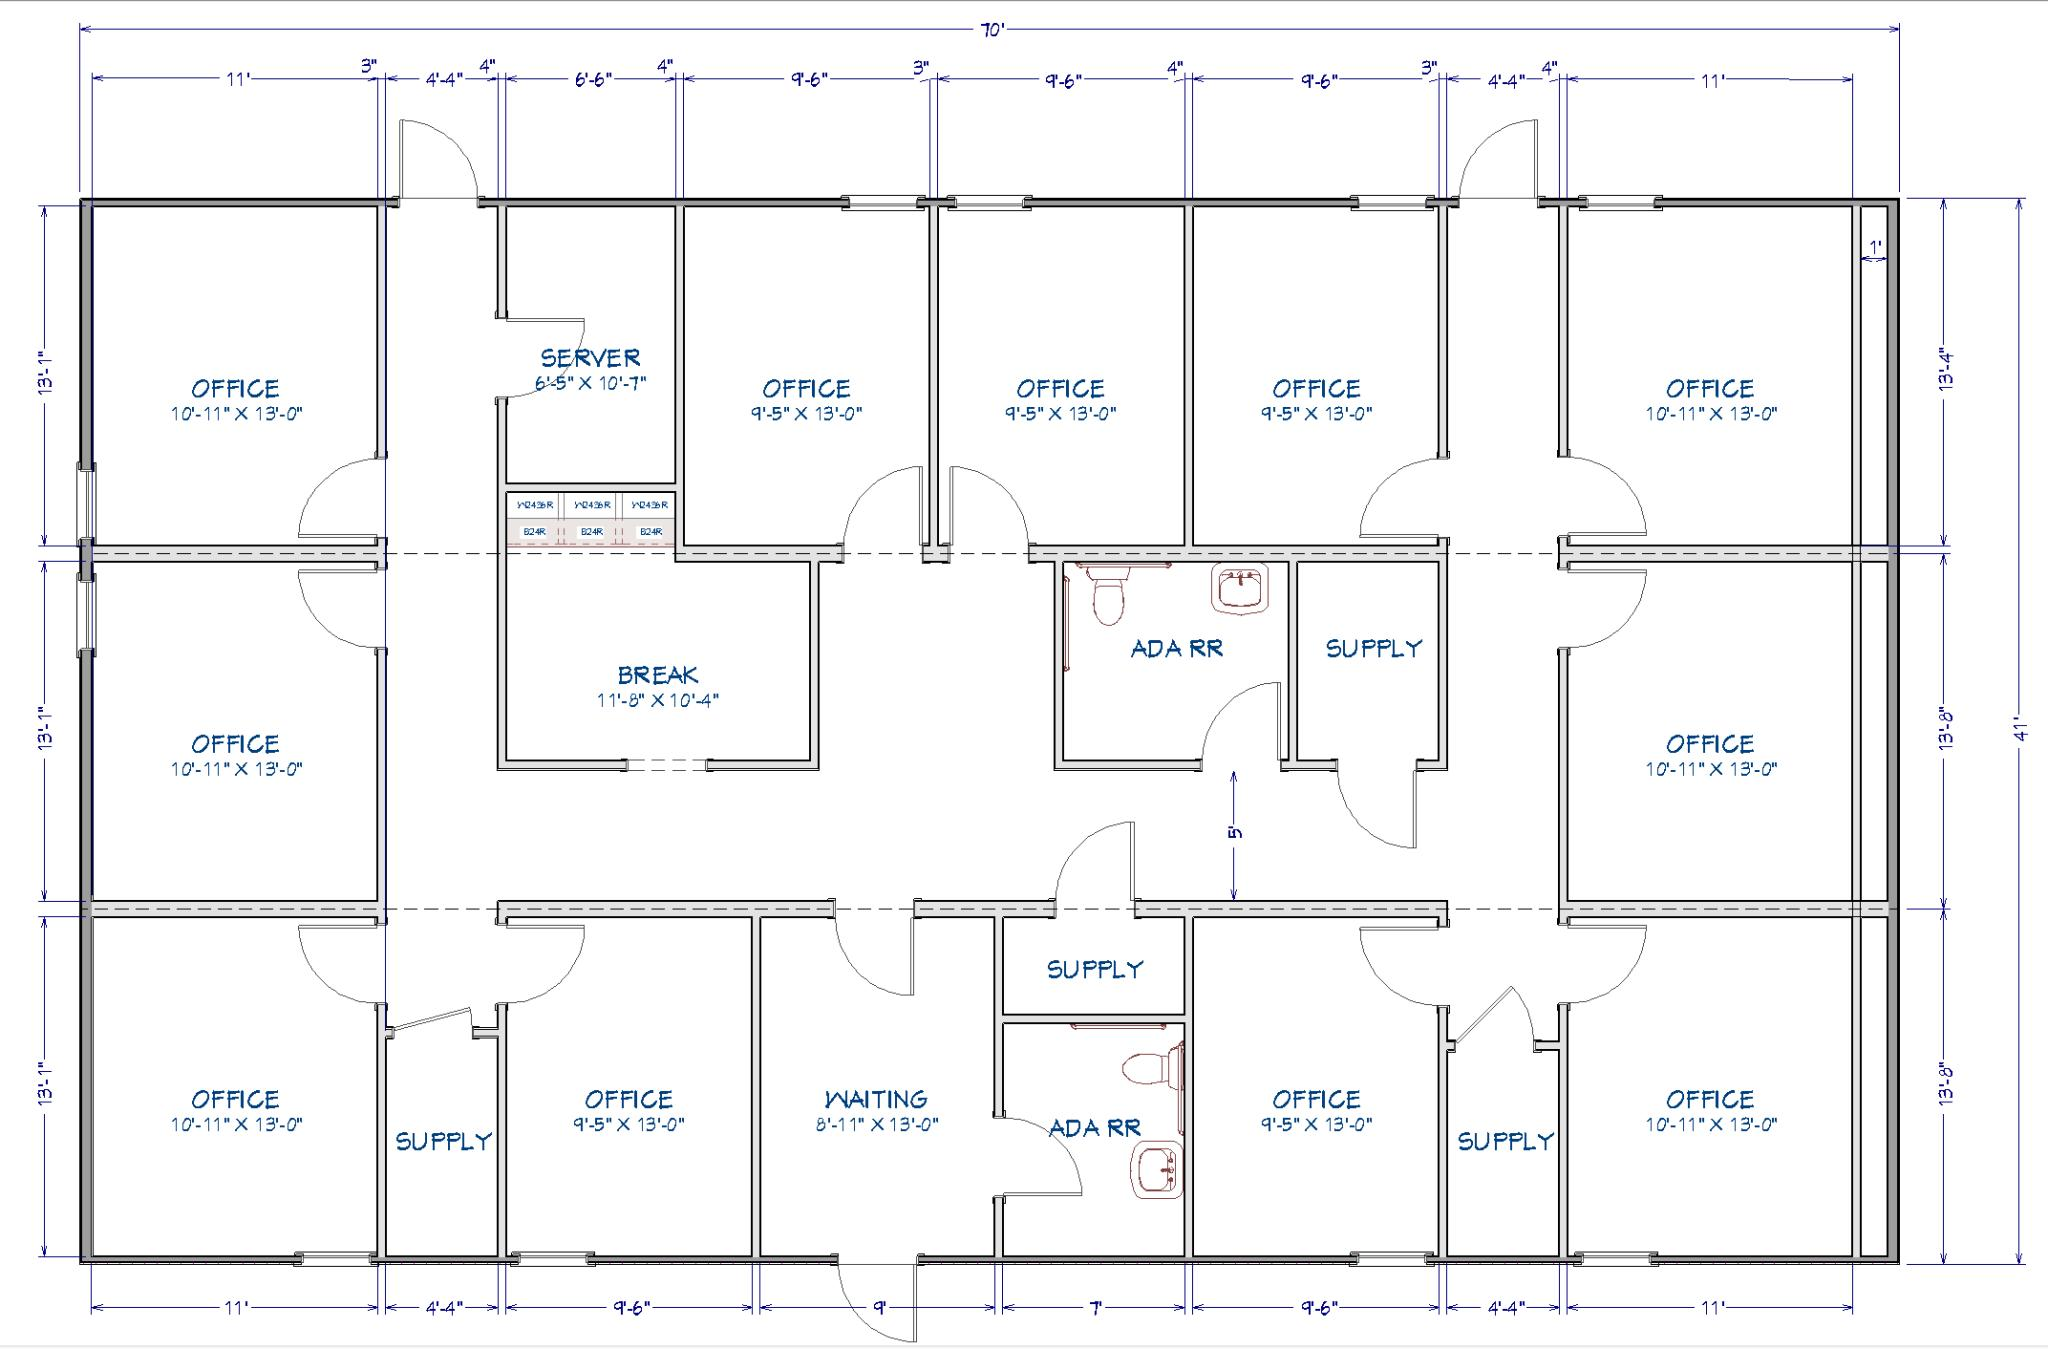room: (86, 553, 381, 912), (86, 908, 385, 1262), (87, 203, 384, 556), (1562, 554, 1857, 906), (1562, 906, 1855, 1260), (1563, 203, 1857, 554), (934, 203, 1190, 554), (679, 203, 934, 553), (1187, 203, 1443, 553), (1189, 911, 1445, 1260), (503, 909, 757, 1260), (755, 909, 999, 1260), (503, 551, 814, 765), (1058, 554, 1296, 766), (503, 205, 680, 486), (999, 1016, 1189, 1259), (1291, 551, 1446, 765), (381, 1030, 503, 1260), (998, 908, 1189, 1019)
